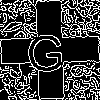G: (25, 25, 65, 73)
